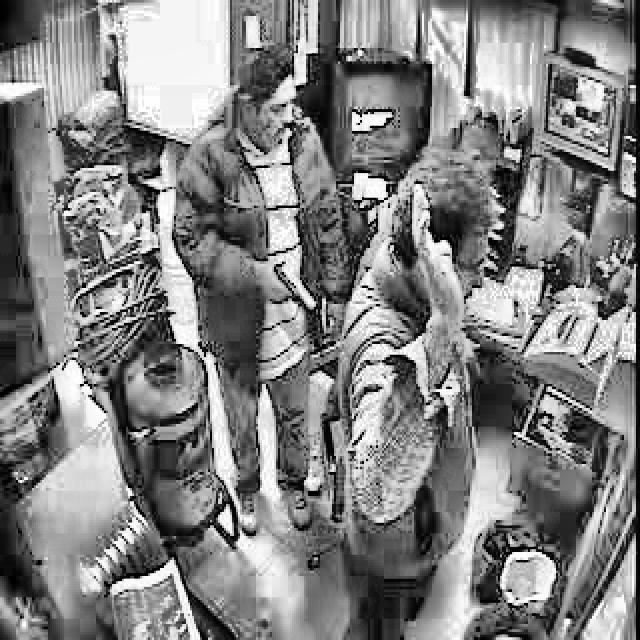robbery: (165, 45, 361, 385), (330, 139, 496, 532)
